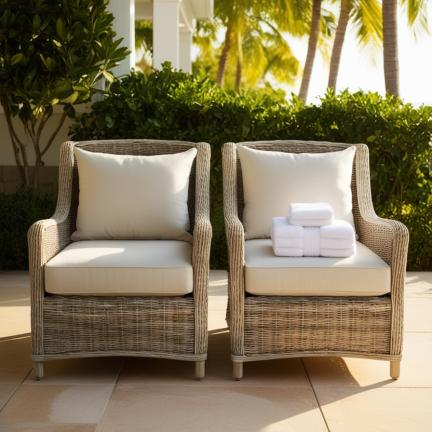empty chair: (28, 140, 212, 379)
occupied chair: (222, 141, 408, 379)
